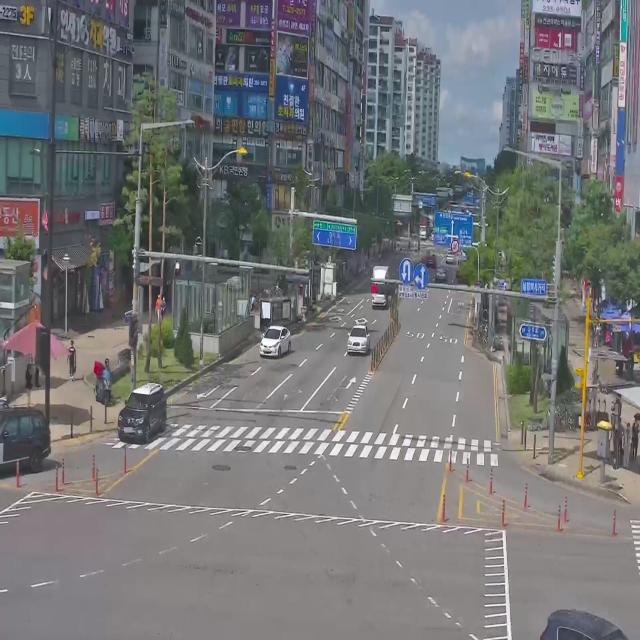Car: (0, 407, 51, 472), (117, 382, 167, 444), (539, 608, 629, 639), (259, 324, 291, 358), (347, 323, 370, 355)
Motorcycle: (93, 358, 114, 406)
Truck: (368, 257, 391, 316)
